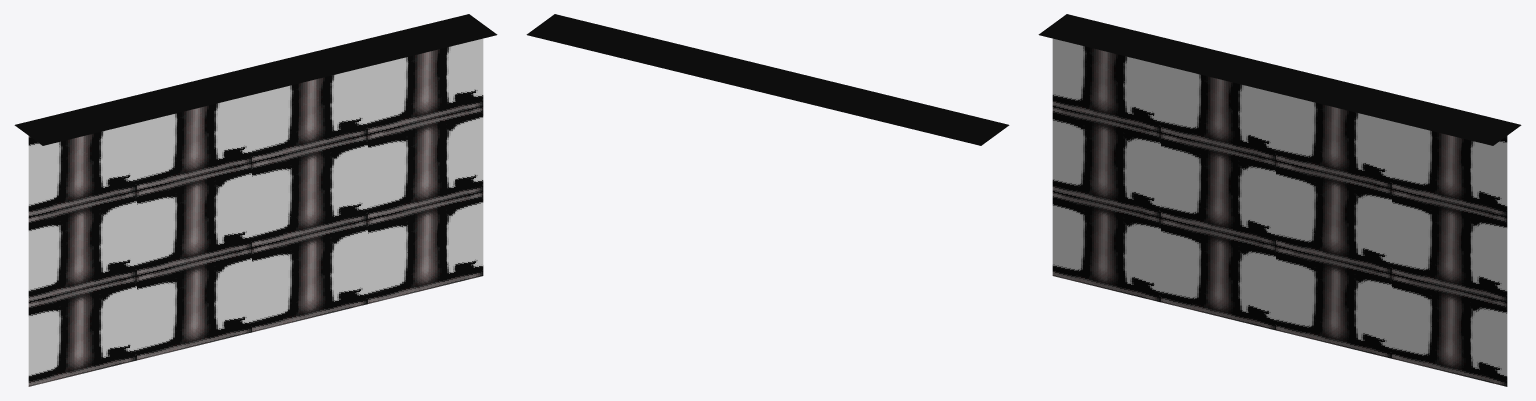
Rendered from Geländer1_Hoch [MetallGitterHoch]_1182.glb.
3 views of the same model, side by side, from view 1: azimuth 30°, elevation 25°; view 2: azimuth 150°, elevation 25°; view 3: azimuth 330°, elevation 25° (orthographic).
Visible parts, largest first — view 1: pPlaneShape229, pPlaneShape230; view 2: pPlaneShape230; view 3: pPlaneShape229, pPlaneShape230.
Boxes of the visible parts, x1,y1,x2,y2 form: pPlaneShape229: (28,38,483,386); pPlaneShape230: (14,14,497,145); pPlaneShape230: (526,14,1009,145); pPlaneShape229: (1052,38,1507,386); pPlaneShape230: (1038,14,1521,145).
Size of the model in its own units: 0.2229 by 0.1177 by 0.0243.
Materials: 2 (1 with a texture image).
